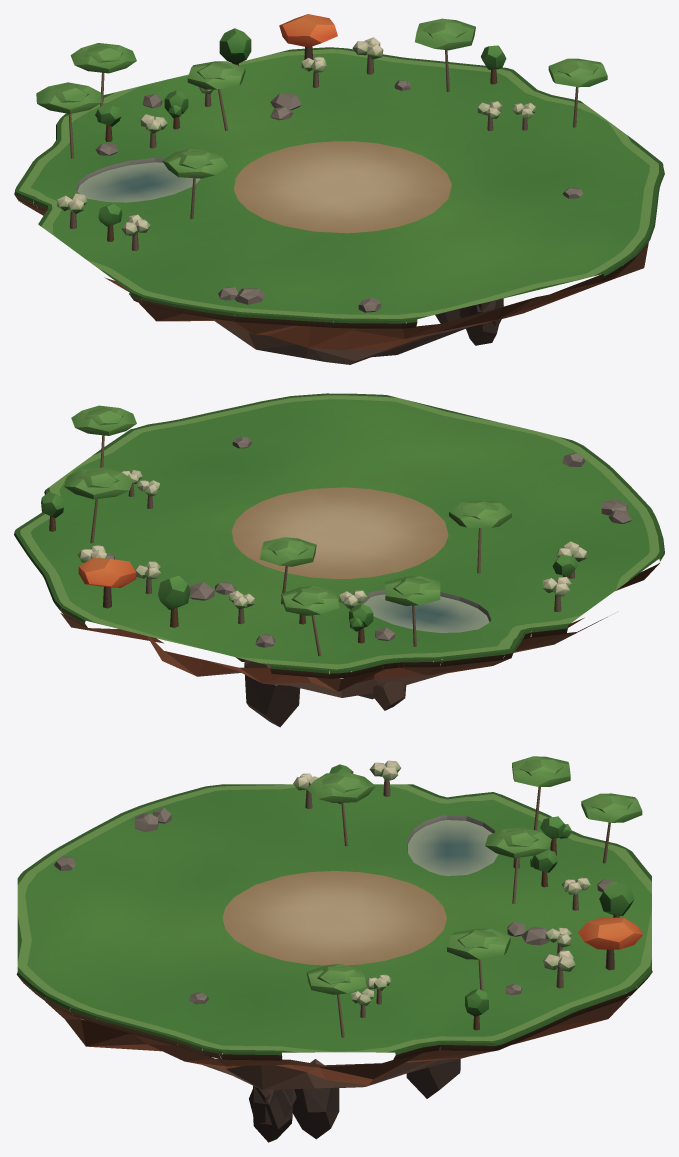
The model's file is title_island_home.glb.
The picture shows the model from 3 angles, top to bottom: view 1: azimuth 30°, elevation 25°; view 2: azimuth 150°, elevation 25°; view 3: azimuth 270°, elevation 25°; orthographic projection. The views are drawn at different scales.
Parts seen in each view (by area): view 1: TitleIslandTerrain, TitleIslandWater; view 2: TitleIslandTerrain, TitleIslandWater; view 3: TitleIslandTerrain, TitleIslandWater.
Boxes of the visible parts, <box> form: TitleIslandTerrain: <box>14,14,664,364</box>; TitleIslandWater: <box>77,162,200,202</box>; TitleIslandTerrain: <box>14,393,664,727</box>; TitleIslandWater: <box>363,594,489,632</box>; TitleIslandTerrain: <box>16,756,652,1142</box>; TitleIslandWater: <box>408,820,498,875</box>.
Bounding box in the file's own units: 50.08 × 19.88 × 49.27.
